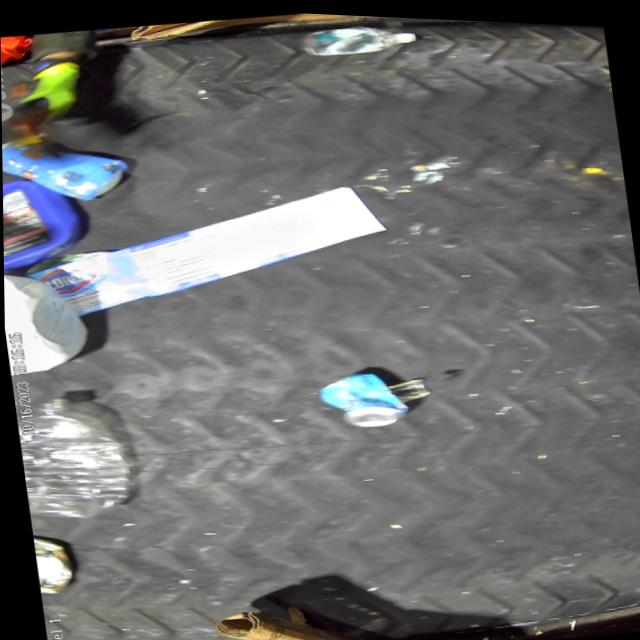can: (312, 362, 410, 431), (30, 530, 73, 596)
milk_jug: (3, 264, 90, 378)
non_white_jug: (2, 170, 86, 276)
plastic_bottle: (12, 387, 130, 525), (299, 13, 418, 58)
